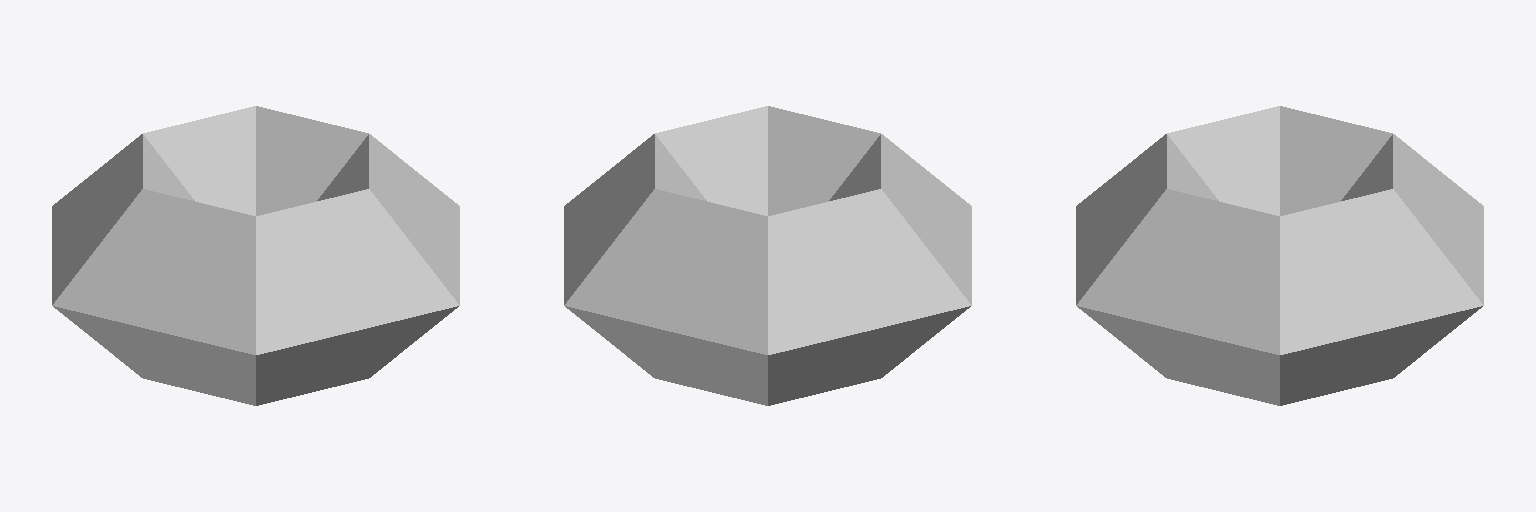
File: explosion_2.obj
3 renders of one model, left to right at view 1: azimuth 30°, elevation 25°; view 2: azimuth 150°, elevation 25°; view 3: azimuth 270°, elevation 25°, orthographic.
Parts seen in each view (by area): view 1: Sphere; view 2: Sphere; view 3: Sphere.
Part boxes in pixels (left/top/right/bottom): Sphere: left=52, top=106, right=459, bottom=405; Sphere: left=564, top=106, right=971, bottom=405; Sphere: left=1076, top=106, right=1483, bottom=405.
Bounding box in the file's own units: 72 × 32 × 62.35.